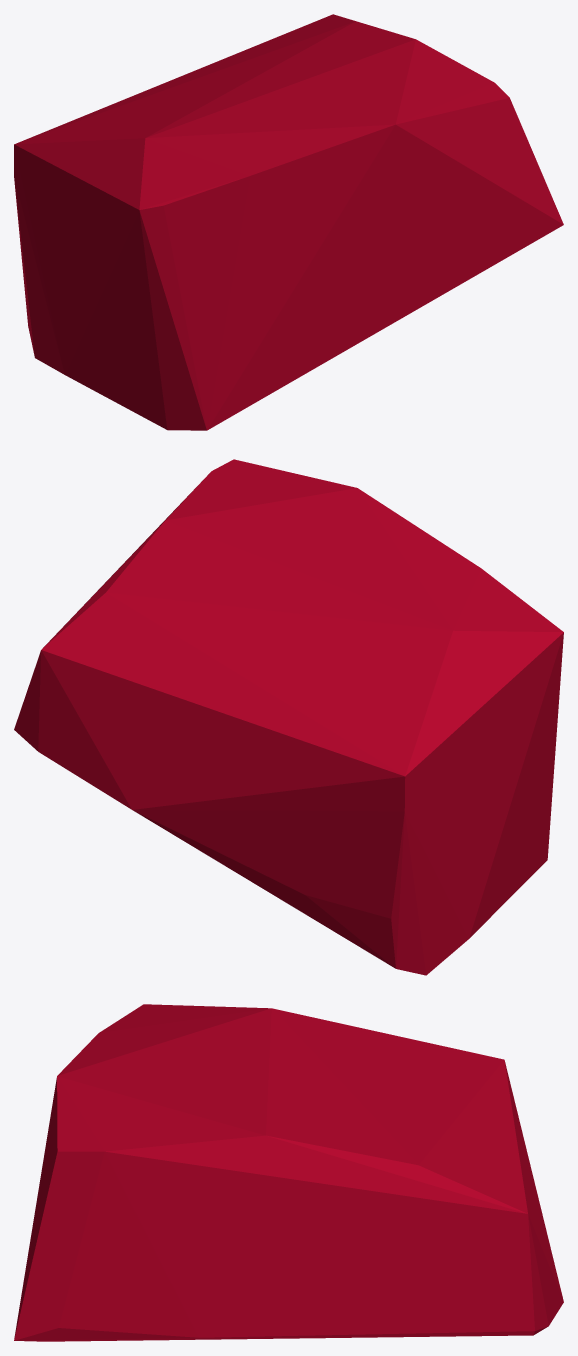
File: PortalStein3.fbx
3 views of the same model, one above another, from view 1: azimuth 30°, elevation 25°; view 2: azimuth 150°, elevation 25°; view 3: azimuth 270°, elevation 25° (orthographic). The views are drawn at different scales.
Visible parts, largest first — view 1: s.0068_Mirrored.001; view 2: s.0068_Mirrored.001; view 3: s.0068_Mirrored.001.
Boxes of the visible parts, bbox=[...] form: s.0068_Mirrored.001: bbox=[14, 14, 563, 430]; s.0068_Mirrored.001: bbox=[14, 459, 563, 975]; s.0068_Mirrored.001: bbox=[14, 1004, 563, 1341].
Bounding box in the file's own units: 38.13 × 28.51 × 36.47.
